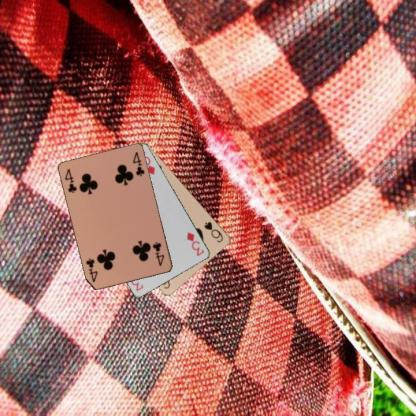3d: (184, 229, 206, 257)
4c: (150, 239, 166, 268), (62, 166, 78, 195)
6s: (201, 219, 224, 244)
